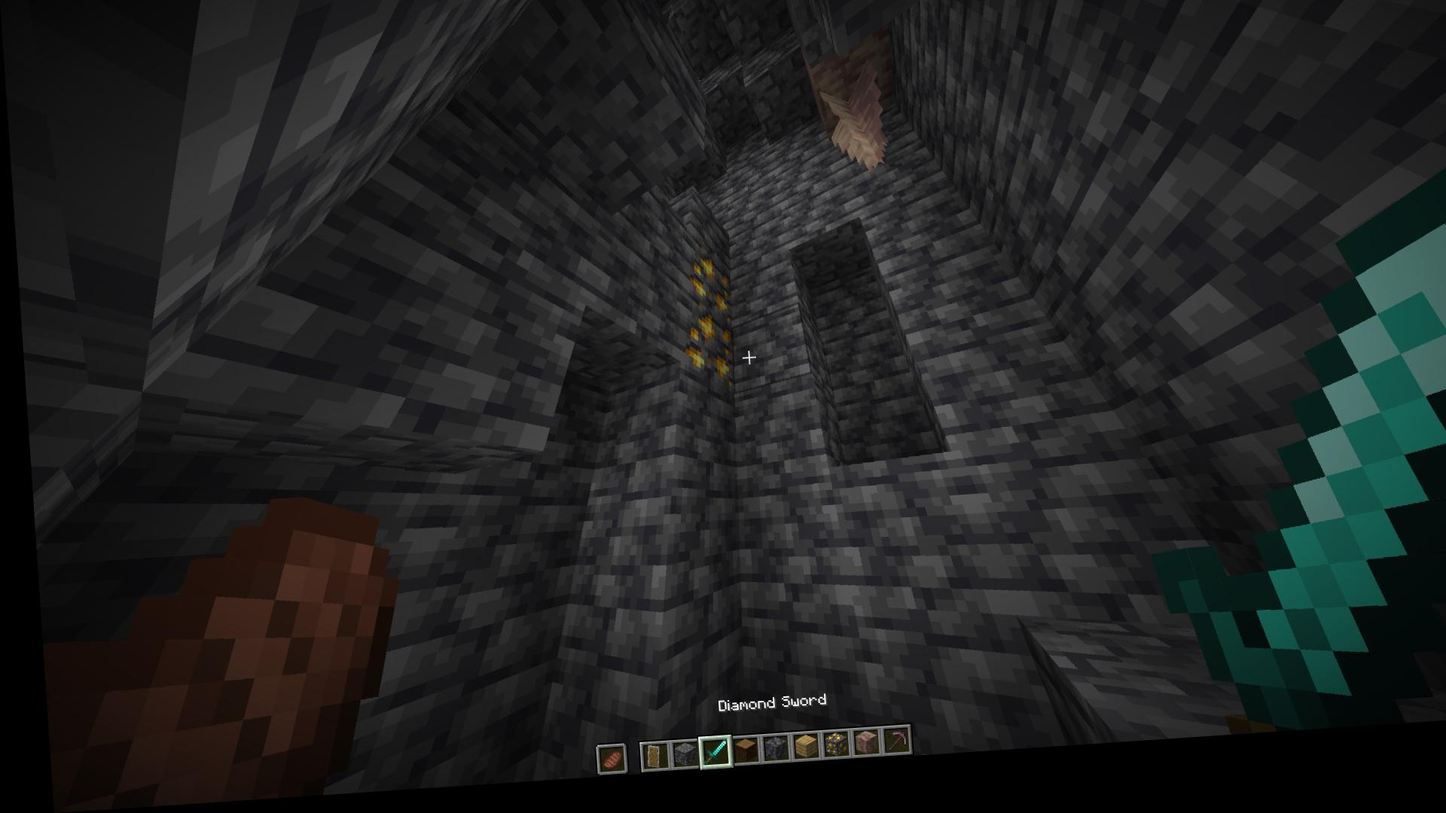gold ore: (678, 316, 731, 402), (687, 262, 727, 328)
